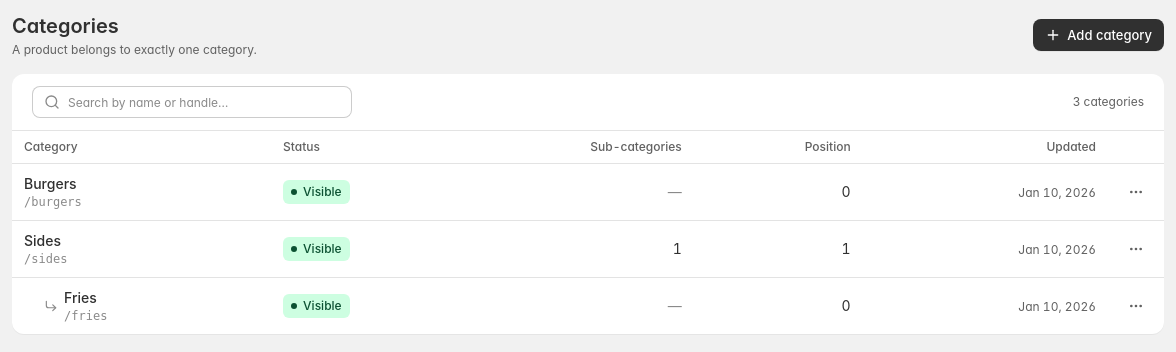
Scenario: CategoryListPage › filters in the browser and keeps a match’s ancestors visible
Expected: the text "Burgers" is shown, [24,174,82,194]
In the search field named "Search categories": (192, 102) [32,86,352,118], type "fries"
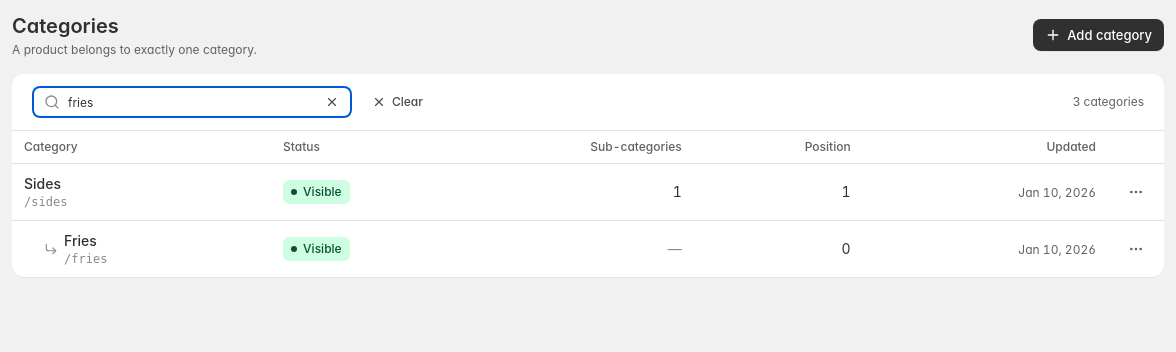
Expected: the text "Fries" is shown, [64,232,97,249]
Result: the text "Burgers" is gone
